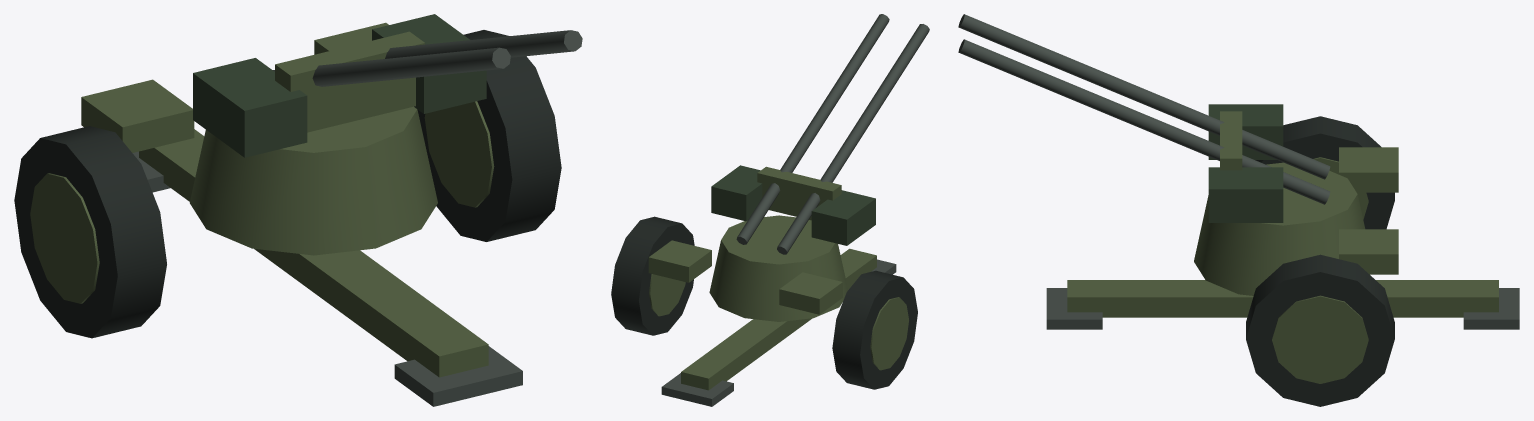
3 views of the same model, side by side, from view 1: azimuth 30°, elevation 25°; view 2: azimuth 150°, elevation 25°; view 3: azimuth 270°, elevation 25° (orthographic). The views are drawn at different scales.
Parts seen in each view (by area): view 1: vietnam-A; view 2: vietnam-A; view 3: vietnam-A.
Boxes of the visible parts, left/top/right/bottom form: vietnam-A: left=14, top=14, right=582, bottom=406; vietnam-A: left=611, top=14, right=929, bottom=406; vietnam-A: left=958, top=14, right=1519, bottom=406.
Size of the model in its own units: 1 by 0.8951 by 1.51.
